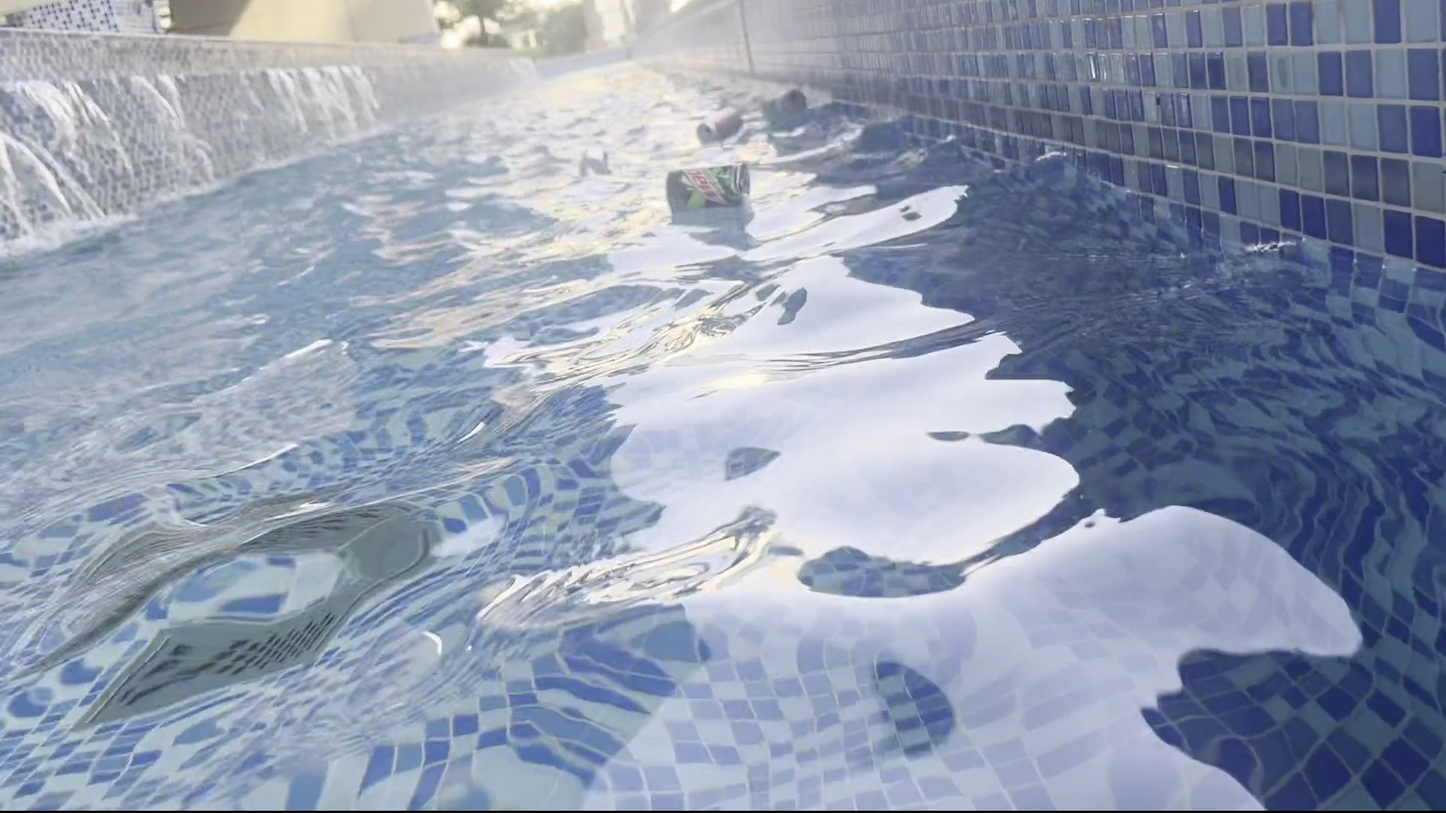debris: (655, 159, 759, 215), (756, 88, 815, 126), (693, 105, 745, 144)
